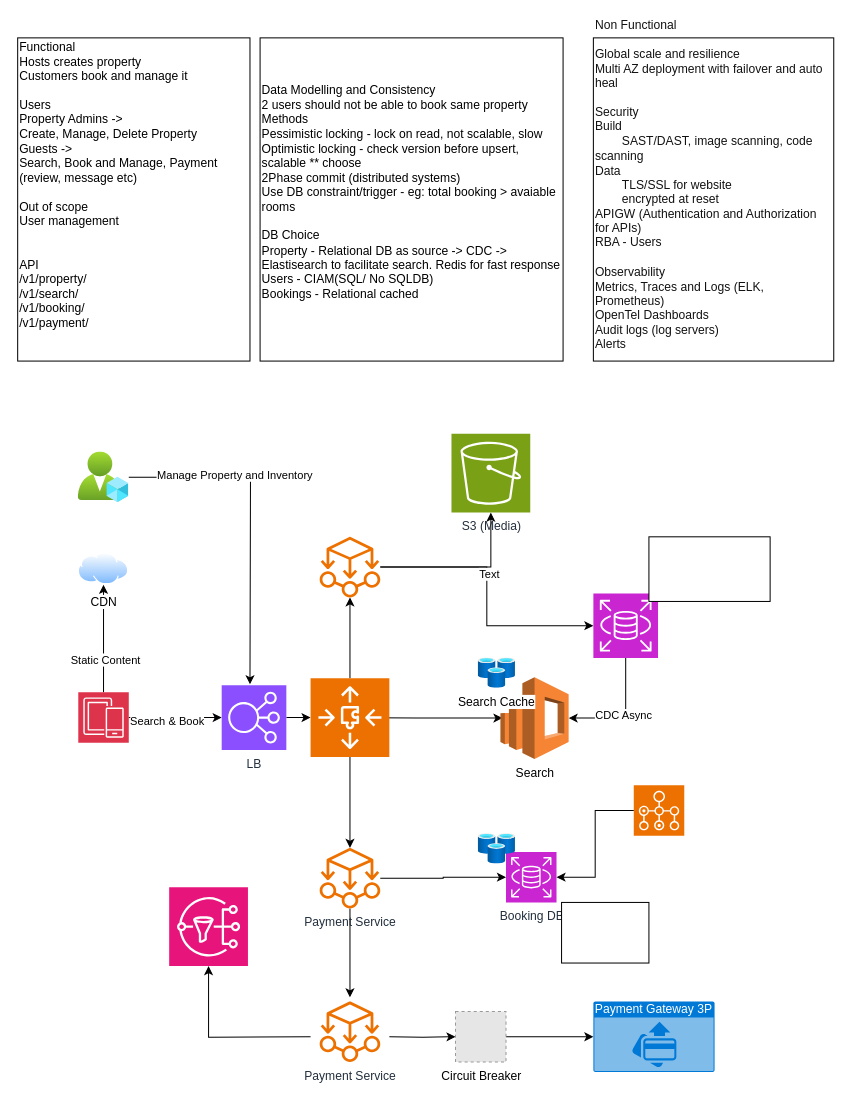
Image size: 851x1100. Some labels were removed from this diagram. Grey dashed boxes stand in for pictures. The shapes that lost their labels are listed below. From the top down, each one's centre as x and y in pixels, then its label:
(709,568): Property Inventory Metadata(Rate, rating etc)
(625,625): Property SQL DB
(349,717): Web Server
(658,810): HouseKeep
(208,926): Notifications
(605,932): Users Bookings Payments
